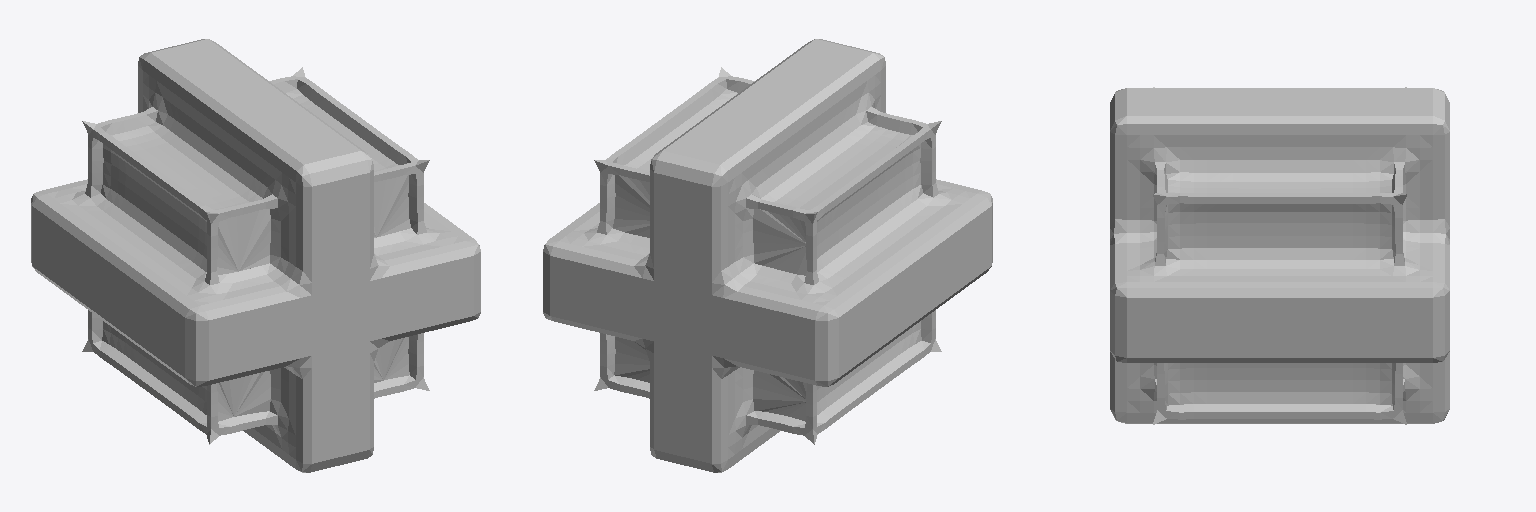
Rendered from HealthPickup.obj.
3 views of the same model, side by side, from view 1: azimuth 30°, elevation 25°; view 2: azimuth 150°, elevation 25°; view 3: azimuth 270°, elevation 25° (orthographic).
Visible parts, largest first — view 1: Cube_Cube.002; view 2: Cube_Cube.002; view 3: Cube_Cube.002.
Boxes of the visible parts, x1=… form: Cube_Cube.002: x1=31, y1=39, x2=480, y2=472; Cube_Cube.002: x1=543, y1=39, x2=992, y2=472; Cube_Cube.002: x1=1110, y1=87, x2=1449, y2=424.
Bounding box in the file's own units: 0.5 × 0.5 × 0.5.